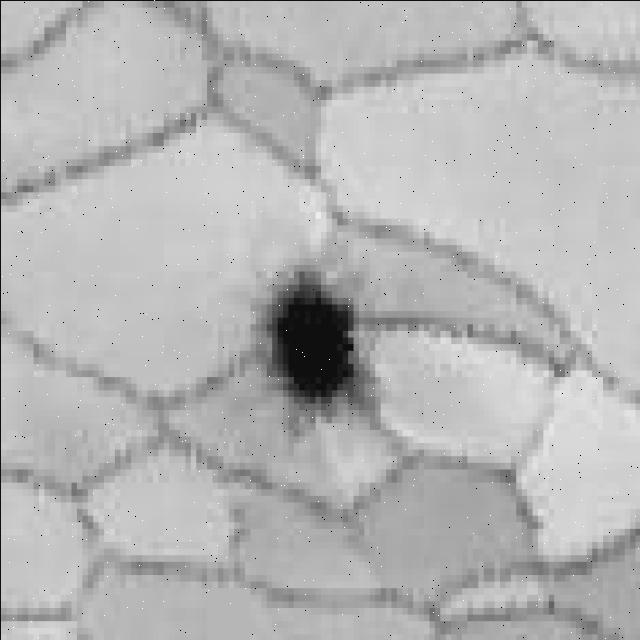good_void: (244, 250, 397, 457)
